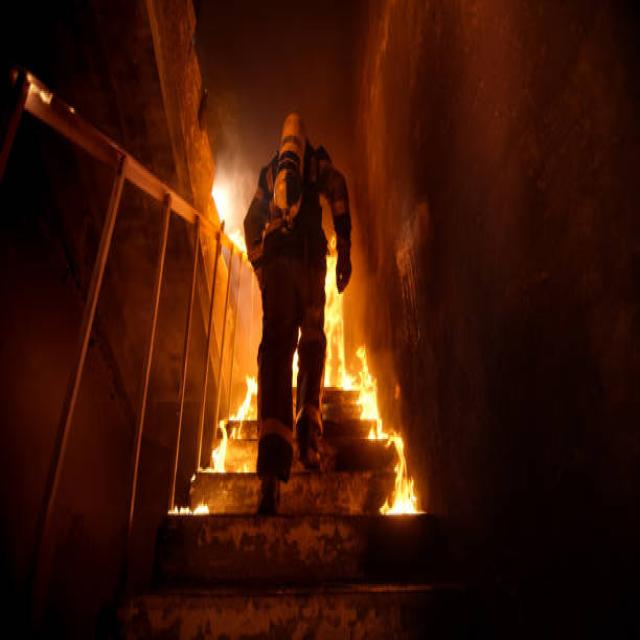fire: (327, 234, 428, 528), (204, 160, 258, 497)
